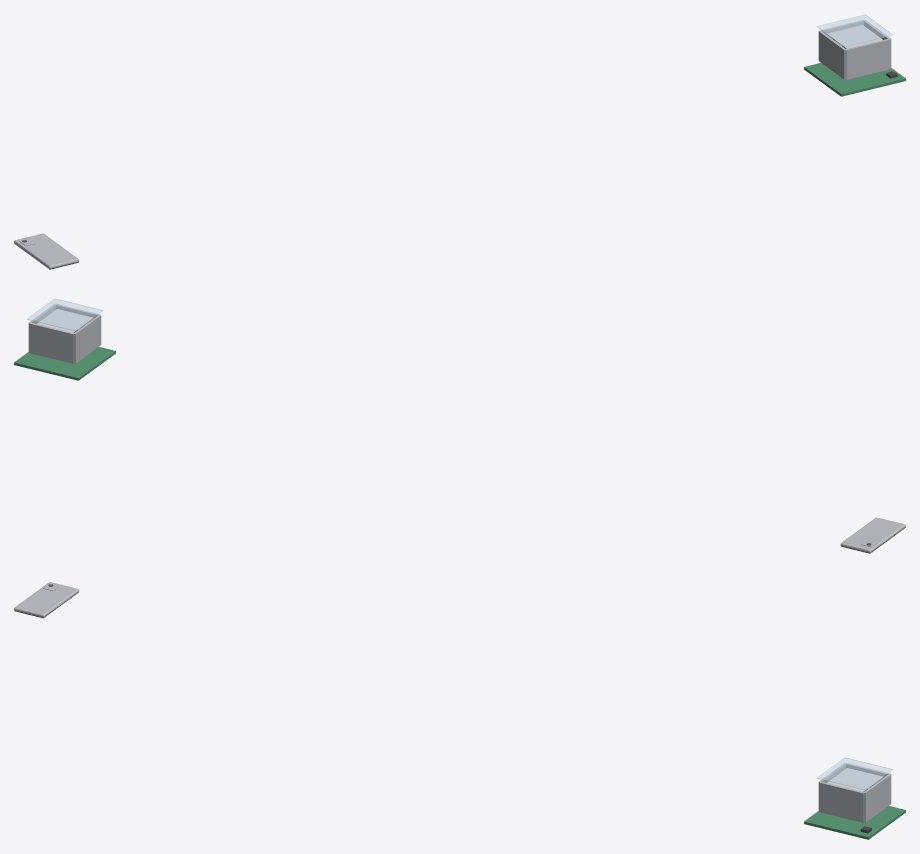
The picture shows the model from 3 angles, top to bottom: view 1: azimuth 30°, elevation 25°; view 2: azimuth 150°, elevation 25°; view 3: azimuth 330°, elevation 25°; orthographic projection.
Parts seen in each view (by area): view 1: mod_board, housing_3, cover_glass, phone_body, housing_1, leaf_spring_1; view 2: mod_board, housing_2, cover_glass, phone_body, housing_1, leaf_spring_1; view 3: mod_board, housing_3, cover_glass, phone_body, housing_0, leaf_spring_1.
Part boxes in pixels (bbox=[...]): mod_board: bbox=[804, 63, 905, 96]; housing_3: bbox=[845, 38, 890, 79]; cover_glass: bbox=[816, 14, 892, 47]; phone_body: bbox=[14, 233, 79, 268]; housing_1: bbox=[818, 31, 846, 79]; leaf_spring_1: bbox=[826, 25, 882, 48]; mod_board: bbox=[14, 347, 115, 380]; housing_2: bbox=[29, 322, 74, 363]; cover_glass: bbox=[27, 298, 103, 331]; phone_body: bbox=[840, 517, 905, 552]; housing_1: bbox=[73, 315, 101, 363]; leaf_spring_1: bbox=[37, 309, 93, 332]; mod_board: bbox=[804, 806, 905, 839]; housing_3: bbox=[819, 782, 864, 822]; cover_glass: bbox=[817, 757, 893, 790]; phone_body: bbox=[14, 582, 79, 617]; housing_0: bbox=[863, 774, 891, 822]; leaf_spring_1: bbox=[827, 768, 883, 791].
Size of the model in its own units: 21.17 by 1.06 by 1.6.
